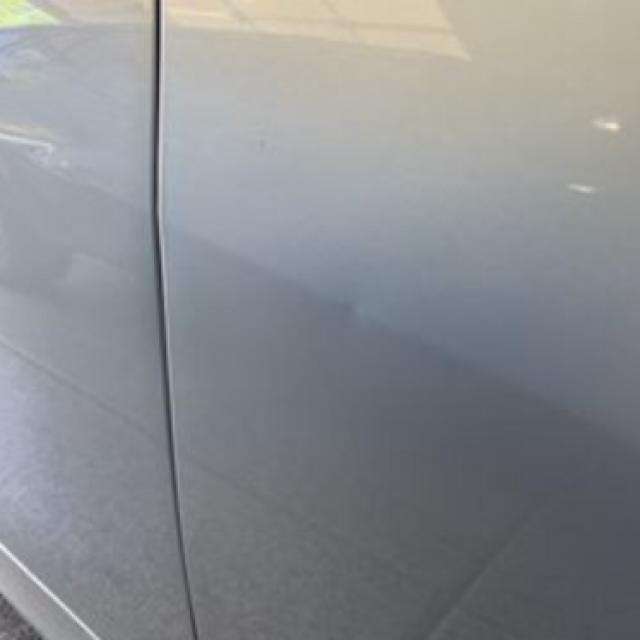dents: (322, 293, 388, 344)
